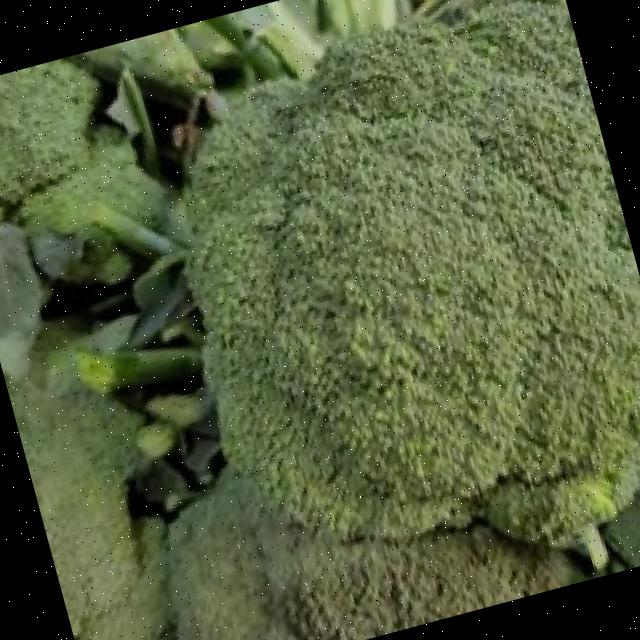Broccoli: (171, 0, 640, 640), (192, 1, 640, 542), (169, 469, 574, 640), (5, 314, 171, 640), (6, 381, 167, 640), (0, 59, 96, 216), (0, 61, 88, 200)
